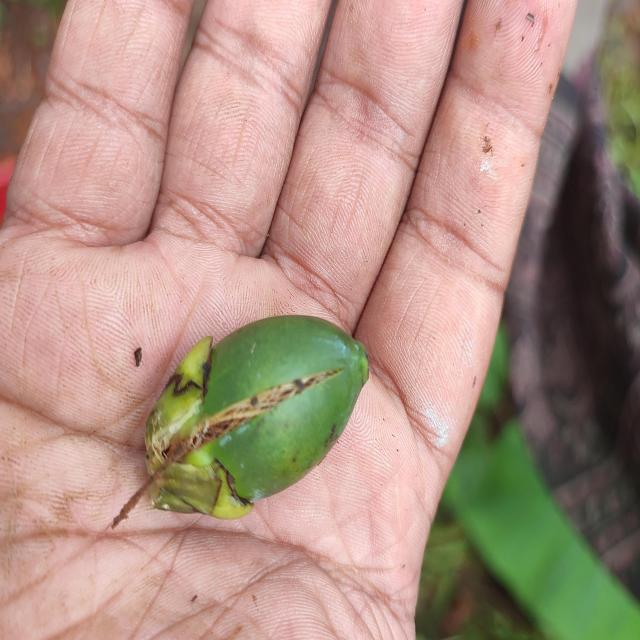damaged: (142, 315, 370, 523)
